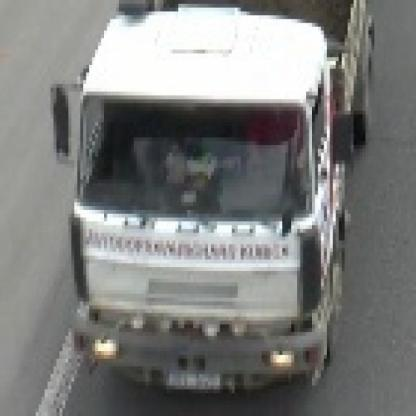truck: (57, 1, 382, 394)
